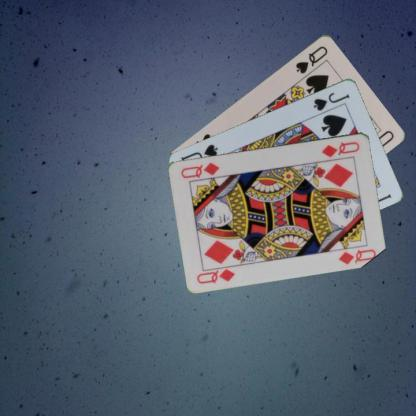Js: (310, 89, 351, 112)
Qd: (195, 262, 238, 285), (319, 139, 361, 159)
Qs: (293, 42, 329, 74)
